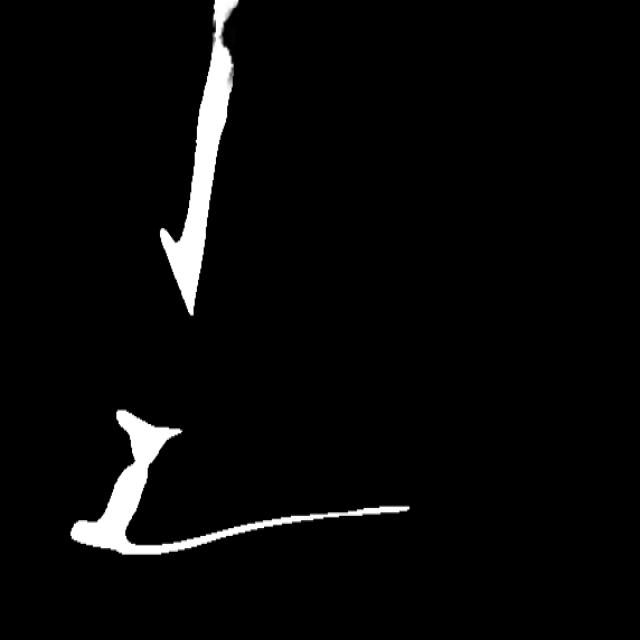sl: (207, 0, 241, 72)
